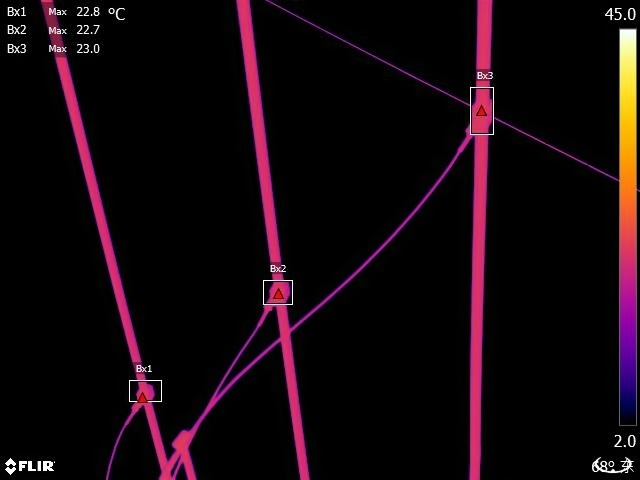clamp: (464, 95, 496, 137), (264, 279, 292, 309), (132, 382, 162, 407)
